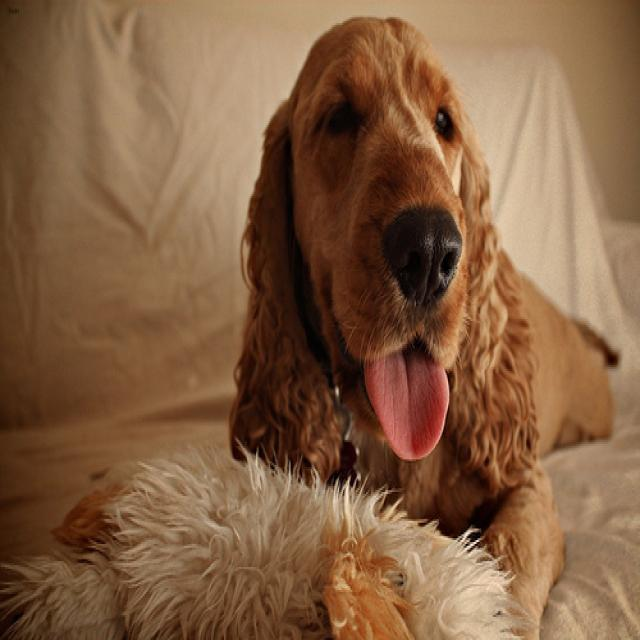dog-english_cocker_spaniel: (1, 2, 627, 636)
